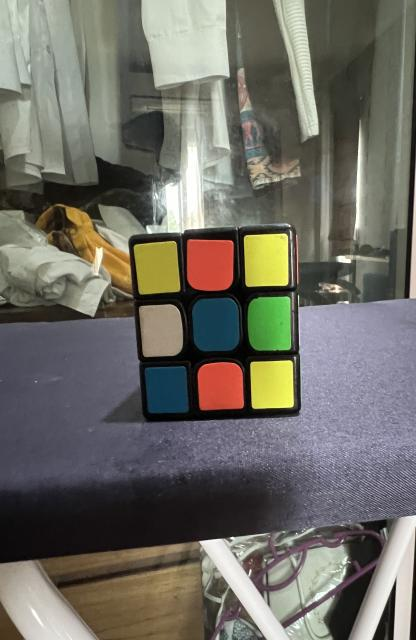Blue: (192, 298, 239, 351), (145, 366, 188, 414)
Green: (247, 296, 291, 351)
Orange: (187, 239, 234, 291), (197, 362, 244, 410)
White: (139, 304, 183, 358)
Yellow: (133, 241, 181, 295), (244, 234, 289, 288), (250, 360, 294, 409)
